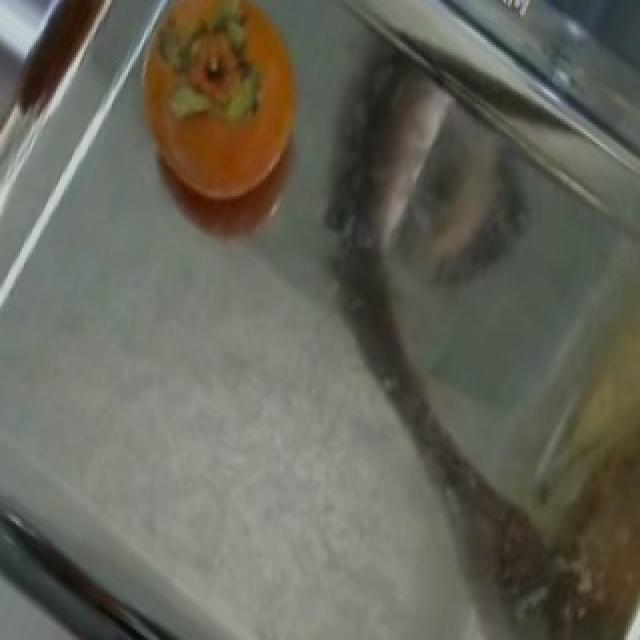Fruit: (108, 0, 332, 223)
